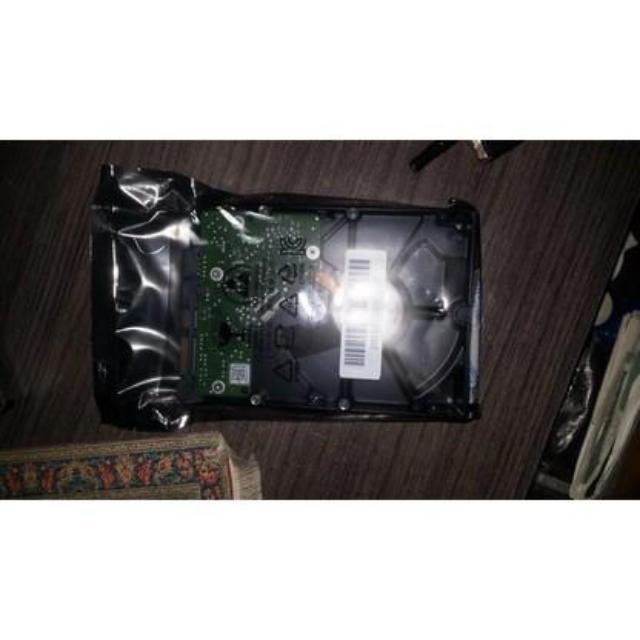DISK: (180, 208, 472, 410)
